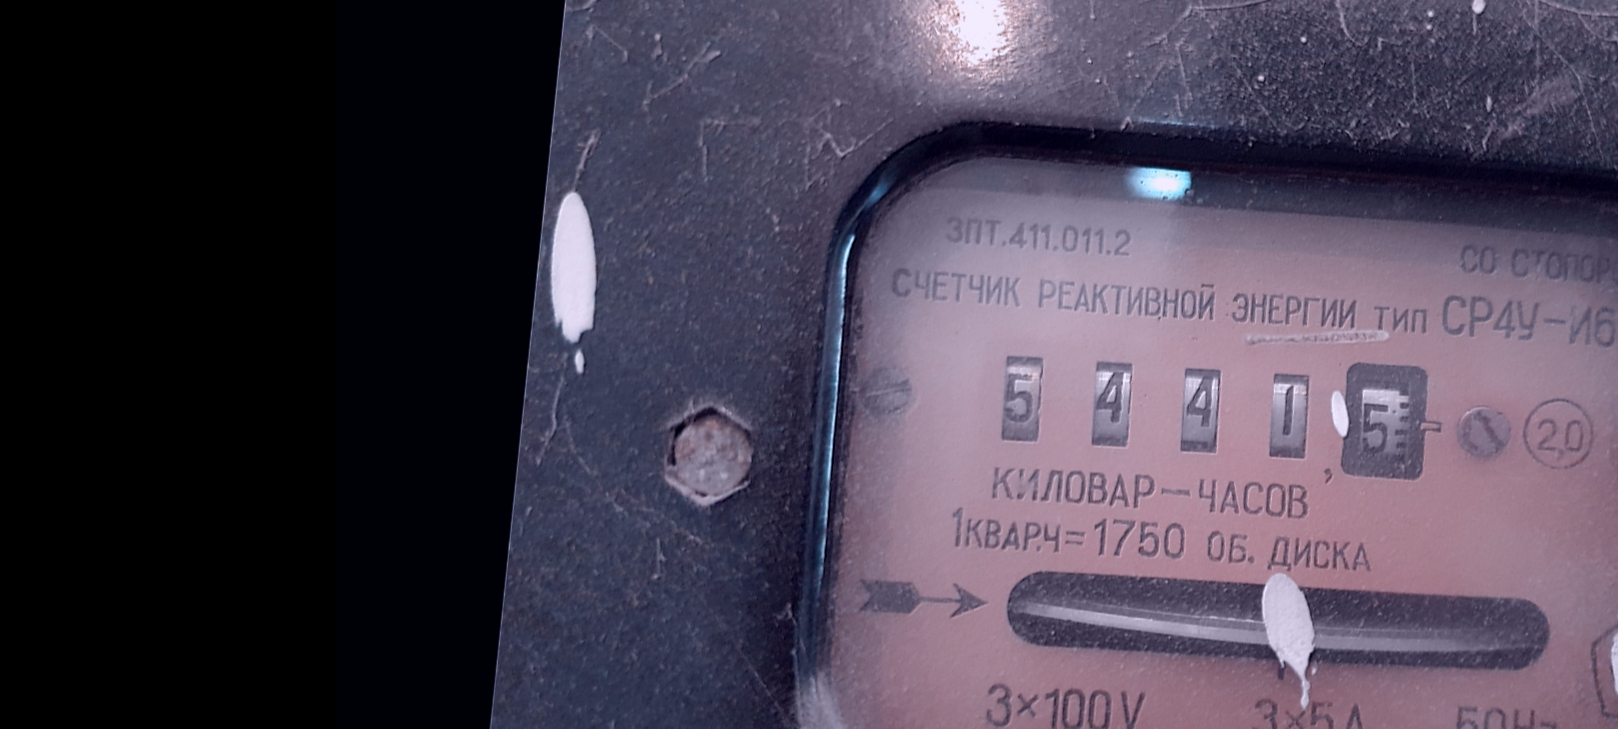1: (1275, 381, 1305, 442)
4: (1180, 368, 1224, 437), (1092, 364, 1134, 429)
5: (1000, 368, 1044, 429), (1357, 397, 1398, 462)
screen: (973, 302, 1461, 514)
